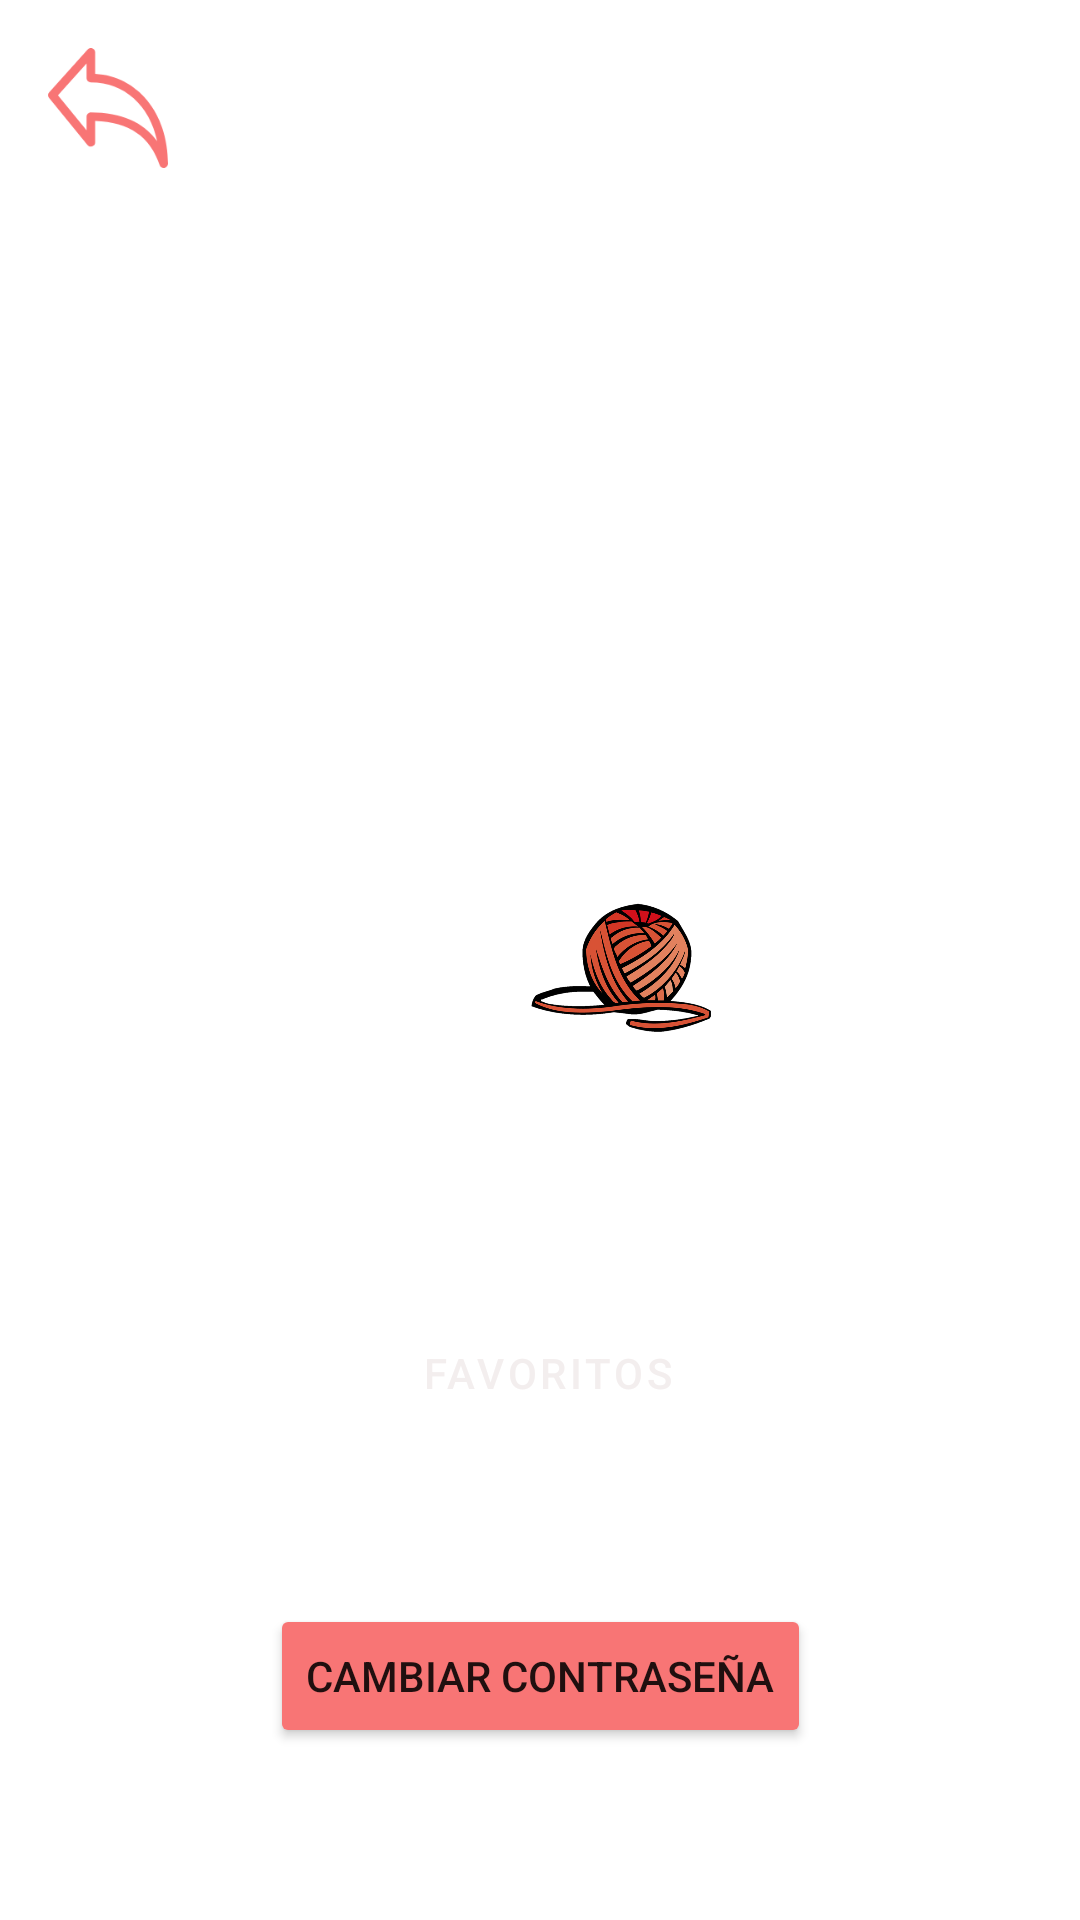

Where to tap for icons on this 1080 × 1920 app screen, as (x,y):
back: (108,108)
decoration: (621,968)
